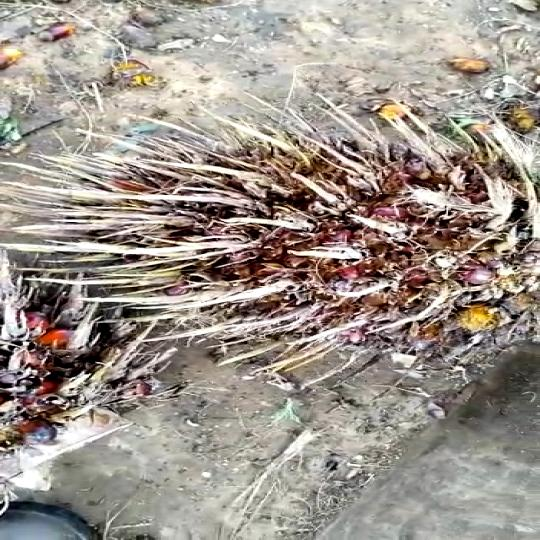terlalu masak: (0, 91, 540, 385)
